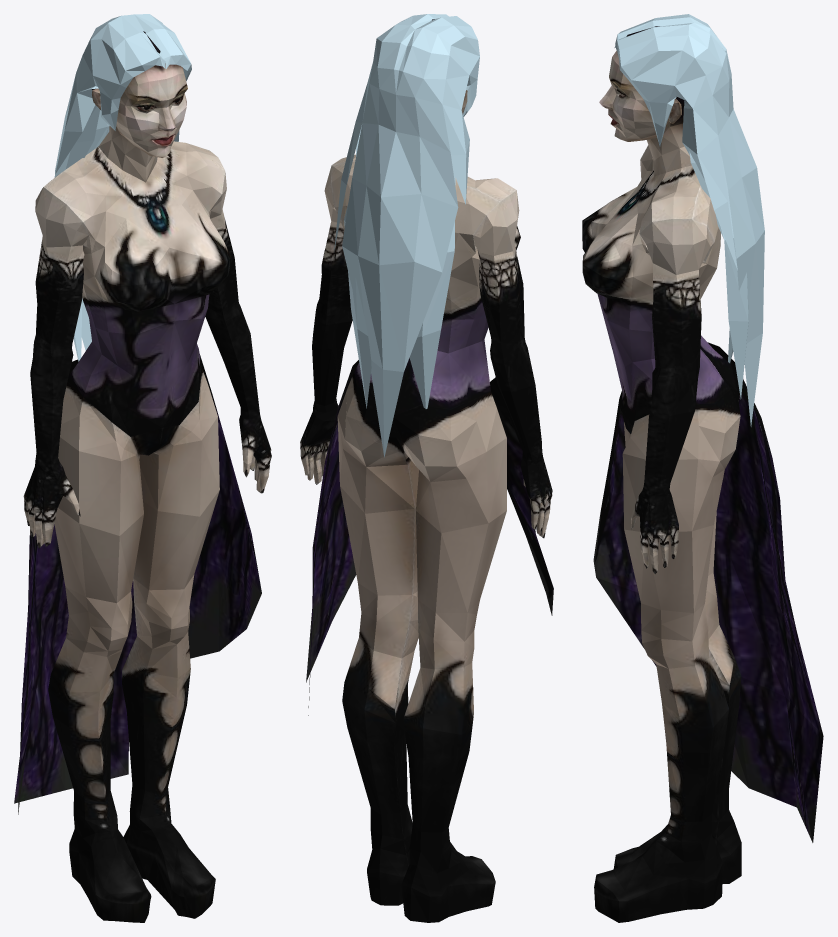
File: running_001.obj
The picture shows the model from 3 angles, left to right: view 1: azimuth 30°, elevation 25°; view 2: azimuth 150°, elevation 25°; view 3: azimuth 270°, elevation 25°; orthographic projection.
Parts seen in each view (by area): view 1: Plane.001_Plane.007, Plane.003_Plane.008, capelli.001_Plane.006; view 2: Plane.001_Plane.007, capelli.001_Plane.006, Plane.003_Plane.008; view 3: Plane.001_Plane.007, Plane.003_Plane.008, capelli.001_Plane.006.
Boxes of the visible parts, bbox=[...] form: Plane.001_Plane.007: bbox=[23, 31, 271, 922]; Plane.003_Plane.008: bbox=[14, 354, 261, 814]; capelli.001_Plane.006: bbox=[54, 14, 191, 361]; Plane.001_Plane.007: bbox=[300, 19, 552, 922]; capelli.001_Plane.006: bbox=[334, 14, 479, 457]; Plane.003_Plane.008: bbox=[306, 360, 553, 715]; Plane.001_Plane.007: bbox=[582, 26, 741, 922]; Plane.003_Plane.008: bbox=[593, 342, 823, 842]; capelli.001_Plane.006: bbox=[614, 14, 764, 426].
Bounding box in the file's own units: 1.6 × 5.59 × 1.39.
